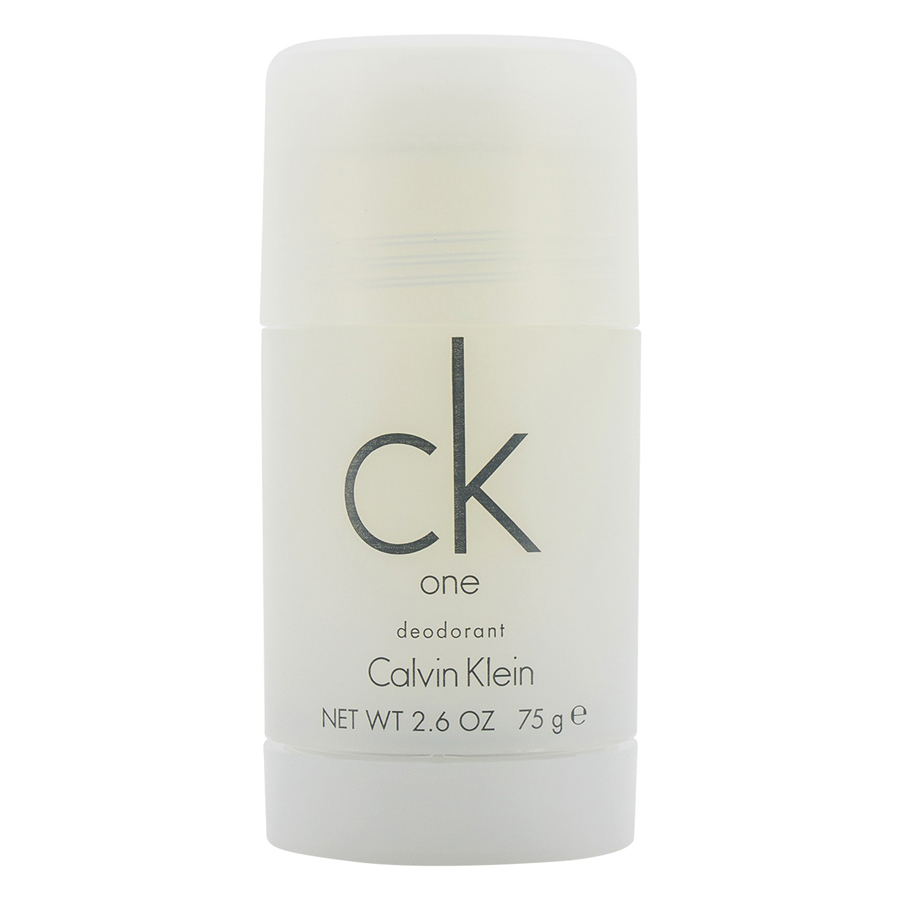Calvin Klein: (334, 331, 545, 560), (359, 649, 542, 693)
